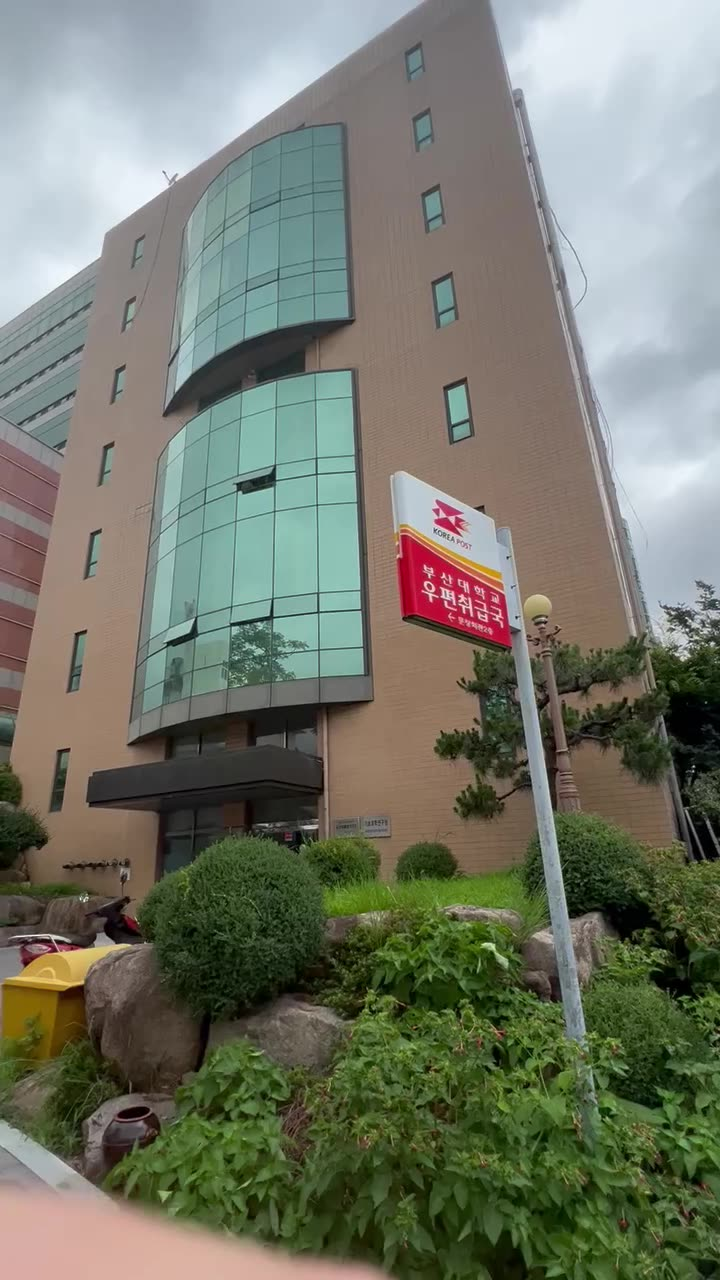low: (94, 138, 408, 834)
